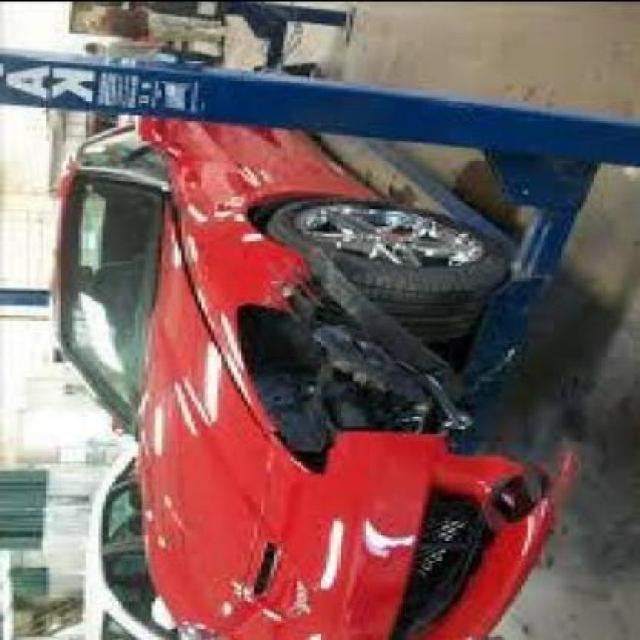damage: (224, 247, 586, 533)
